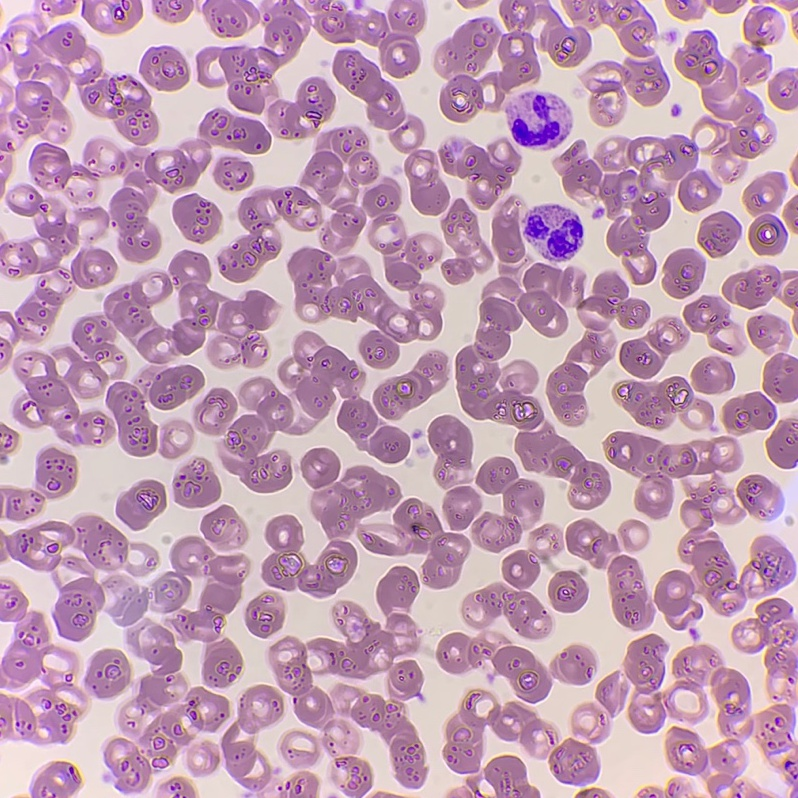RBC: (111, 109, 270, 261), (655, 477, 793, 629), (562, 135, 697, 284), (288, 238, 441, 367), (0, 25, 157, 144), (275, 603, 422, 730), (440, 0, 590, 121), (105, 251, 218, 363), (604, 432, 740, 518), (279, 332, 377, 448), (456, 297, 542, 429), (154, 537, 247, 641), (14, 348, 112, 443), (315, 0, 424, 77), (444, 690, 543, 772), (224, 378, 292, 492), (262, 515, 356, 596), (345, 691, 425, 786), (515, 426, 610, 504), (119, 623, 183, 734), (140, 688, 229, 767), (394, 499, 469, 588), (702, 66, 770, 164), (475, 457, 543, 551), (221, 685, 283, 788), (302, 150, 365, 250), (311, 466, 399, 536), (0, 198, 78, 276), (547, 333, 608, 425), (333, 50, 404, 128), (440, 139, 520, 208), (218, 191, 279, 281), (732, 598, 797, 680), (614, 377, 709, 428), (568, 0, 653, 56), (463, 584, 550, 638), (373, 355, 446, 419), (666, 728, 734, 791), (219, 47, 283, 112), (0, 690, 78, 743), (442, 200, 491, 283), (666, 645, 720, 720), (518, 263, 573, 336), (576, 273, 649, 328), (620, 318, 688, 377), (625, 635, 666, 732), (269, 78, 334, 138), (0, 613, 51, 687), (219, 291, 273, 359), (107, 382, 156, 455), (0, 522, 74, 570), (493, 646, 551, 702), (609, 556, 653, 629), (318, 129, 377, 183), (55, 578, 103, 640), (429, 416, 472, 484), (76, 516, 127, 570), (405, 150, 448, 214), (144, 365, 203, 409), (13, 289, 63, 339), (675, 33, 722, 85), (723, 266, 782, 307), (711, 668, 748, 733), (116, 480, 165, 529), (566, 520, 617, 567), (105, 738, 150, 791), (265, 3, 309, 57), (173, 458, 220, 507), (31, 145, 88, 185), (485, 756, 539, 797), (173, 195, 220, 242), (270, 187, 321, 230), (437, 633, 491, 673), (85, 649, 130, 697), (723, 392, 774, 434), (621, 61, 668, 105), (140, 47, 188, 90), (550, 740, 598, 783), (82, 0, 142, 33), (663, 249, 704, 297), (201, 506, 246, 548), (195, 388, 236, 434), (37, 449, 76, 497), (698, 212, 740, 256), (377, 566, 418, 611), (72, 316, 114, 359), (203, 640, 241, 686), (71, 249, 115, 288), (31, 762, 80, 797), (737, 475, 778, 516), (684, 296, 728, 334), (364, 178, 400, 224), (245, 593, 283, 636), (492, 212, 524, 262), (552, 646, 594, 684), (679, 171, 719, 210), (745, 173, 784, 213), (549, 571, 587, 612), (764, 354, 797, 401), (203, 0, 246, 36), (444, 486, 480, 529), (301, 448, 339, 487), (692, 357, 733, 393), (767, 419, 797, 468), (760, 704, 791, 751), (590, 81, 623, 125), (369, 426, 409, 462), (749, 215, 785, 254), (337, 757, 372, 796), (0, 488, 42, 520), (503, 551, 539, 588), (113, 590, 148, 624), (282, 732, 318, 765), (215, 157, 252, 189), (748, 315, 785, 347), (162, 421, 191, 458), (392, 117, 423, 151), (769, 72, 797, 109), (744, 11, 771, 48), (596, 675, 623, 709), (738, 51, 767, 81), (153, 0, 192, 21), (0, 591, 26, 620), (289, 772, 317, 797), (362, 535, 397, 554), (0, 424, 17, 463), (488, 277, 518, 297), (512, 369, 537, 392), (666, 0, 697, 18), (783, 756, 797, 792), (170, 777, 195, 797), (204, 744, 218, 772), (713, 0, 743, 12), (785, 197, 797, 224), (589, 723, 607, 741), (784, 281, 797, 305), (543, 205, 565, 219), (76, 208, 104, 219), (197, 49, 216, 65), (65, 557, 84, 570), (84, 142, 96, 161), (79, 387, 97, 398), (61, 0, 75, 13), (292, 422, 307, 434), (107, 576, 122, 587), (0, 134, 10, 150), (537, 526, 551, 537), (43, 0, 57, 10), (665, 787, 679, 797), (578, 789, 595, 797), (116, 154, 125, 168), (461, 0, 481, 6), (323, 737, 332, 747), (163, 282, 171, 292), (593, 322, 603, 330), (1, 342, 9, 351), (469, 778, 477, 787), (792, 163, 797, 177), (640, 791, 651, 797), (749, 792, 762, 797), (3, 162, 11, 170), (1, 312, 9, 320), (550, 543, 558, 551), (541, 554, 549, 562), (0, 177, 4, 191), (376, 793, 384, 797), (598, 793, 606, 797), (792, 0, 797, 6)
